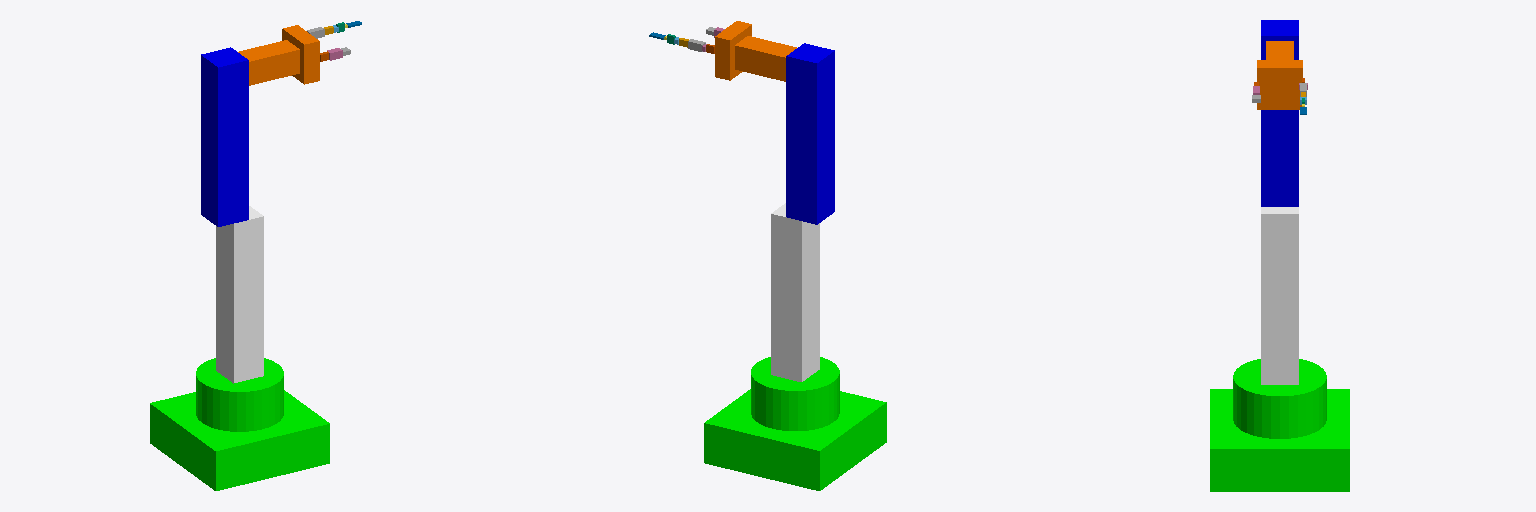
The robot description file, URDF, robot "robot":
<?xml version='1.0' encoding='utf-8'?>
<robot name="robot">
  <link name="base_link">
    <visual>
      <origin xyz="0 0 0.125" rpy="0 0 0" />
      <geometry>
        <box size="0.75 0.75 0.25" />
      </geometry>
      <material name="green" />
    </visual>
    <visual>
      <origin xyz="0 0 0.375" rpy="0 0 0" />
      <geometry>
        <cylinder length="0.25" radius="0.25" />
      </geometry>
      <material name="green">
        <color rgba="0 1 0 1" />
      </material>
    </visual>
    <collision>
      <geometry>
        <box size="0.75 0.75 0.5" />
      </geometry>
    </collision>
    <inertial>
      <mass value="0.5" />
      <inertia ixx="0.034" ixy="0.0" ixz="0.0" iyy="0.034" iyz="0.0" izz="0.034" />
    </inertial>
  </link>
  <link name="support_link">
    <visual>
      <origin xyz="0 0 0.5" rpy="0 0 0" />
      <geometry>
        <box size="0.2 0.2 1" />
      </geometry>
      <material name="white">
        <color rgba="1 1 1 1" />
      </material>
    </visual>
    <collision>
      <geometry>
        <box size="0.2 0.2 1" />
      </geometry>
    </collision>
    <inertial>
      <mass value="0.1" />
      <inertia ixx="0.01" ixy="0.0" ixz="0.0" iyy="0.01" iyz="0.0" izz="0.01" />
    </inertial>
  </link>
  <joint name="support_joint" type="continuous">
    <origin xyz="0 0 0.5" rpy="0 0 0" />
    <parent link="base_link" />
    <child link="support_link" />
    <axis xyz="0 0 1" />
  </joint>
  <link name="arm_link">
    <visual>
      <origin xyz="0 0 0.5" rpy="0 0 0" />
      <geometry>
        <box size="0.2 0.2 1" />
      </geometry>
      <material name="blue">
        <color rgba="0 0 1 1" />
      </material>
    </visual>
    <collision>
      <geometry>
        <box size="0.2 0.2 1" />
      </geometry>
    </collision>
    <inertial>
      <mass value="0.1" />
      <inertia ixx="0.01" ixy="0.0" ixz="0.0" iyy="0.01" iyz="0.0" izz="0.01" />
    </inertial>
  </link>
  <joint name="arm_joint" type="revolute">
    <origin xyz="-0.1 0 1" rpy="0 0 0" />
    <parent link="support_link" />
    <child link="arm_link" />
    <axis xyz="0 1 0" />
    <limit lower="-3.14" upper="3.14" effort="1.0" velocity="1.0" />
  </joint>
  <link name="wrist_link">
    <visual>
      <origin xyz="0 0 0.25" rpy="0 0 0" />
      <geometry>
        <box size="0.15 0.15 0.5" />
      </geometry>
      <material name="orange">
        <color rgba="1 0.5 0 1" />
      </material>
    </visual>
    <collision>
      <geometry>
        <box size="0.15 0.15 0.5" />
      </geometry>
    </collision>
    <inertial>
      <mass value="0.1" />
      <inertia ixx="0.01" ixy="0.0" ixz="0.0" iyy="0.01" iyz="0.0" izz="0.01" />
    </inertial>
  </link>
  <joint name="wrist_joint" type="fixed">
    <origin xyz="0 0 0.9" rpy="0 1.571 0" />
    <parent link="arm_link" />
    <child link="wrist_link" />
  </joint>
  <link name="palm_link">
    <visual>
      <origin xyz="0 0 0.05" rpy="0 0 0" />
      <geometry>
        <box size="0.25 0.25 0.1" />
      </geometry>
      <material name="orange" />
    </visual>
    <collision>
      <geometry>
        <box size="0.25 0.25 0.1" />
      </geometry>
    </collision>
    <inertial>
      <mass value="0.1" />
      <inertia ixx="0.01" ixy="0.0" ixz="0.0" iyy="0.01" iyz="0.0" izz="0.01" />
    </inertial>
  </link>
  <joint name="palm_joint" type="fixed">
    <origin xyz="0 0 0.45" rpy="0 0 0" />
    <parent link="wrist_link" />
    <child link="palm_link" />
  </joint>
  <link name="finger_link_0_0">
    <visual>
      <origin xyz="0 0 0.0245" rpy="0 0 0" />
      <geometry>
        <box size="0.046 0.017 0.049" />
      </geometry>
    </visual>
    <collision>
      <geometry>
        <box size="0.046 0.017 0.049" />
      </geometry>
    </collision>
    <inertial>
      <mass value="0.011" />
      <inertia ixx="0.0" iyy="0.0" izz="0.0" ixy="0" ixz="0" iyz="0" />
    </inertial>
  </link>
  <joint name="finger_joint_palm_link_to_finger_link_0_0" type="revolute">
    <origin xyz="-0.043 0.125 0.1" rpy="0 0 0" />
    <parent link="palm_link" />
    <child link="finger_link_0_0" />
    <axis xyz="-1.0 0.0 0.0" />
    <limit lower="-3.142" upper="3.142" effort="10" velocity="10" />
  </joint>
  <link name="finger_link_0_1">
    <visual>
      <origin xyz="0 0 0.01" rpy="0 0 0" />
      <geometry>
        <box size="0.031 0.043 0.02" />
      </geometry>
    </visual>
    <collision>
      <geometry>
        <box size="0.031 0.043 0.02" />
      </geometry>
    </collision>
    <inertial>
      <mass value="0.008" />
      <inertia ixx="0.0" iyy="0.0" izz="0.0" ixy="0" ixz="0" iyz="0" />
    </inertial>
  </link>
  <joint name="finger_joint_finger_link_0_0_to_finger_link_0_1" type="revolute">
    <origin xyz="0.0 0.0 0.049" rpy="0 0 0" />
    <parent link="finger_link_0_0" />
    <child link="finger_link_0_1" />
    <axis xyz="0.0 1.0 0.0" />
    <limit lower="-3.142" upper="3.142" effort="10" velocity="10" />
  </joint>
  <link name="finger_link_0_2">
    <visual>
      <origin xyz="0 0 0.048" rpy="0 0 0" />
      <geometry>
        <box size="0.048 0.038 0.096" />
      </geometry>
    </visual>
    <collision>
      <geometry>
        <box size="0.048 0.038 0.096" />
      </geometry>
    </collision>
    <inertial>
      <mass value="0.053" />
      <inertia ixx="0.0" iyy="0.0" izz="0.0" ixy="0" ixz="0" iyz="0" />
    </inertial>
  </link>
  <joint name="finger_joint_finger_link_0_1_to_finger_link_0_2" type="revolute">
    <origin xyz="0.0 0.0 0.02" rpy="0 0 0" />
    <parent link="finger_link_0_1" />
    <child link="finger_link_0_2" />
    <axis xyz="0.0 1.0 0.0" />
    <limit lower="-3.142" upper="3.142" effort="10" velocity="10" />
  </joint>
  <link name="finger_link_0_3">
    <visual>
      <origin xyz="0 0 0.0315" rpy="0 0 0" />
      <geometry>
        <box size="0.038 0.025 0.063" />
      </geometry>
    </visual>
    <collision>
      <geometry>
        <box size="0.038 0.025 0.063" />
      </geometry>
    </collision>
    <inertial>
      <mass value="0.018" />
      <inertia ixx="0.0" iyy="0.0" izz="0.0" ixy="0" ixz="0" iyz="0" />
    </inertial>
  </link>
  <joint name="finger_joint_finger_link_0_2_to_finger_link_0_3" type="revolute">
    <origin xyz="0.0 0.0 0.096" rpy="0 0 0" />
    <parent link="finger_link_0_2" />
    <child link="finger_link_0_3" />
    <axis xyz="0.0 1.0 0.0" />
    <limit lower="-3.142" upper="3.142" effort="10" velocity="10" />
  </joint>
  <link name="finger_link_0_4">
    <visual>
      <origin xyz="0 0 0.0145" rpy="0 0 0" />
      <geometry>
        <box size="0.028 0.036 0.029" />
      </geometry>
    </visual>
    <collision>
      <geometry>
        <box size="0.028 0.036 0.029" />
      </geometry>
    </collision>
    <inertial>
      <mass value="0.009" />
      <inertia ixx="0.0" iyy="0.0" izz="0.0" ixy="0" ixz="0" iyz="0" />
    </inertial>
  </link>
  <joint name="finger_joint_finger_link_0_3_to_finger_link_0_4" type="revolute">
    <origin xyz="0.0 0.0 0.063" rpy="0 0 0" />
    <parent link="finger_link_0_3" />
    <child link="finger_link_0_4" />
    <axis xyz="1.0 0.0 0.0" />
    <limit lower="-3.142" upper="3.142" effort="10" velocity="10" />
  </joint>
  <link name="finger_link_0_5">
    <visual>
      <origin xyz="0 0 0.023" rpy="0 0 0" />
      <geometry>
        <box size="0.05 0.017 0.046" />
      </geometry>
    </visual>
    <collision>
      <geometry>
        <box size="0.05 0.017 0.046" />
      </geometry>
    </collision>
    <inertial>
      <mass value="0.012" />
      <inertia ixx="0.0" iyy="0.0" izz="0.0" ixy="0" ixz="0" iyz="0" />
    </inertial>
  </link>
  <joint name="finger_joint_finger_link_0_4_to_finger_link_0_5" type="revolute">
    <origin xyz="0.0 0.0 0.029" rpy="0 0 0" />
    <parent link="finger_link_0_4" />
    <child link="finger_link_0_5" />
    <axis xyz="1.0 0.0 0.0" />
    <limit lower="-3.142" upper="3.142" effort="10" velocity="10" />
  </joint>
  <link name="finger_link_0_6">
    <visual>
      <origin xyz="0 0 0.011" rpy="0 0 0" />
      <geometry>
        <box size="0.017 0.017 0.022" />
      </geometry>
    </visual>
    <collision>
      <geometry>
        <box size="0.017 0.017 0.022" />
      </geometry>
    </collision>
    <inertial>
      <mass value="0.002" />
      <inertia ixx="0.0" iyy="0.0" izz="0.0" ixy="0" ixz="0" iyz="0" />
    </inertial>
  </link>
  <joint name="finger_joint_finger_link_0_5_to_finger_link_0_6" type="revolute">
    <origin xyz="0.0 0.0 0.046" rpy="0 0 0" />
    <parent link="finger_link_0_5" />
    <child link="finger_link_0_6" />
    <axis xyz="0.0 1.0 0.0" />
    <limit lower="-3.142" upper="3.142" effort="10" velocity="10" />
  </joint>
  <link name="finger_link_0_7">
    <visual>
      <origin xyz="0 0 0.0435" rpy="0 0 0" />
      <geometry>
        <box size="0.011 0.04 0.087" />
      </geometry>
    </visual>
    <collision>
      <geometry>
        <box size="0.011 0.04 0.087" />
      </geometry>
    </collision>
    <inertial>
      <mass value="0.011" />
      <inertia ixx="0.0" iyy="0.0" izz="0.0" ixy="0" ixz="0" iyz="0" />
    </inertial>
  </link>
  <joint name="finger_joint_finger_link_0_6_to_finger_link_0_7" type="revolute">
    <origin xyz="0.0 0.0 0.022" rpy="0 0 0" />
    <parent link="finger_link_0_6" />
    <child link="finger_link_0_7" />
    <axis xyz="1.0 0.0 0.0" />
    <limit lower="-3.142" upper="3.142" effort="10" velocity="10" />
  </joint>
  <link name="finger_link_1_0">
    <visual>
      <origin xyz="0 0 0.0285" rpy="0 0 0" />
      <geometry>
        <box size="0.044 0.022 0.057" />
      </geometry>
    </visual>
    <collision>
      <geometry>
        <box size="0.044 0.022 0.057" />
      </geometry>
    </collision>
    <inertial>
      <mass value="0.017" />
      <inertia ixx="0.0" iyy="0.0" izz="0.0" ixy="0" ixz="0" iyz="0" />
    </inertial>
  </link>
  <joint name="finger_joint_palm_link_to_finger_link_1_0" type="revolute">
    <origin xyz="-0.02 -0.125 0.1" rpy="0 0 0" />
    <parent link="palm_link" />
    <child link="finger_link_1_0" />
    <axis xyz="1.0 0.0 0.0" />
    <limit lower="-3.142" upper="3.142" effort="10" velocity="10" />
  </joint>
  <link name="finger_link_1_1">
    <visual>
      <origin xyz="0 0 0.04" rpy="0 0 0" />
      <geometry>
        <box size="0.047 0.042 0.08" />
      </geometry>
    </visual>
    <collision>
      <geometry>
        <box size="0.047 0.042 0.08" />
      </geometry>
    </collision>
    <inertial>
      <mass value="0.047" />
      <inertia ixx="0.0" iyy="0.0" izz="0.0" ixy="0" ixz="0" iyz="0" />
    </inertial>
  </link>
  <joint name="finger_joint_finger_link_1_0_to_finger_link_1_1" type="revolute">
    <origin xyz="0.0 0.0 0.057" rpy="0 0 0" />
    <parent link="finger_link_1_0" />
    <child link="finger_link_1_1" />
    <axis xyz="0.0 1.0 0.0" />
    <limit lower="-3.142" upper="3.142" effort="10" velocity="10" />
  </joint>
  <link name="finger_link_1_2">
    <visual>
      <origin xyz="0 0 0.0265" rpy="0 0 0" />
      <geometry>
        <box size="0.024 0.049 0.053" />
      </geometry>
    </visual>
    <collision>
      <geometry>
        <box size="0.024 0.049 0.053" />
      </geometry>
    </collision>
    <inertial>
      <mass value="0.019" />
      <inertia ixx="0.0" iyy="0.0" izz="0.0" ixy="0" ixz="0" iyz="0" />
    </inertial>
  </link>
  <joint name="finger_joint_finger_link_1_1_to_finger_link_1_2" type="revolute">
    <origin xyz="0.0 0.0 0.08" rpy="0 0 0" />
    <parent link="finger_link_1_1" />
    <child link="finger_link_1_2" />
    <axis xyz="1.0 0.0 0.0" />
    <limit lower="-3.142" upper="3.142" effort="10" velocity="10" />
  </joint>
</robot>

--- What the picture shows (computed from the rendered views, not written in the file) ---
The picture shows the robot from 3 angles, left to right: view 1: azimuth 30°, elevation 25°; view 2: azimuth 150°, elevation 25°; view 3: azimuth 270°, elevation 25°; orthographic projection.
Robot: robot — 16 links, 15 joints (12 revolute, 1 continuous, 2 fixed); root link base_link; default pose: every joint at zero.
Links seen in each view (by area): view 1: base_link, arm_link, support_link, wrist_link, palm_link; view 2: base_link, arm_link, support_link, wrist_link, palm_link; view 3: base_link, support_link, arm_link, palm_link, wrist_link.
Link boxes in pixels (box(x1,y1,x2,y2)): base_link: box(150, 358, 329, 490); arm_link: box(201, 47, 248, 226); support_link: box(216, 206, 263, 383); wrist_link: box(238, 40, 299, 85); palm_link: box(282, 25, 319, 84); base_link: box(704, 357, 886, 490); arm_link: box(786, 43, 834, 224); support_link: box(771, 203, 819, 381); wrist_link: box(735, 36, 796, 81); palm_link: box(715, 21, 751, 80); base_link: box(1210, 359, 1349, 491); support_link: box(1261, 207, 1298, 384); arm_link: box(1261, 20, 1298, 206); palm_link: box(1257, 60, 1302, 109); wrist_link: box(1266, 41, 1293, 59).
Bounding box of the posed robot: 1.24 × 0.75 × 2.52 m (x, y, z).
Geometry: primitives only (box / cylinder / sphere), no mesh files.